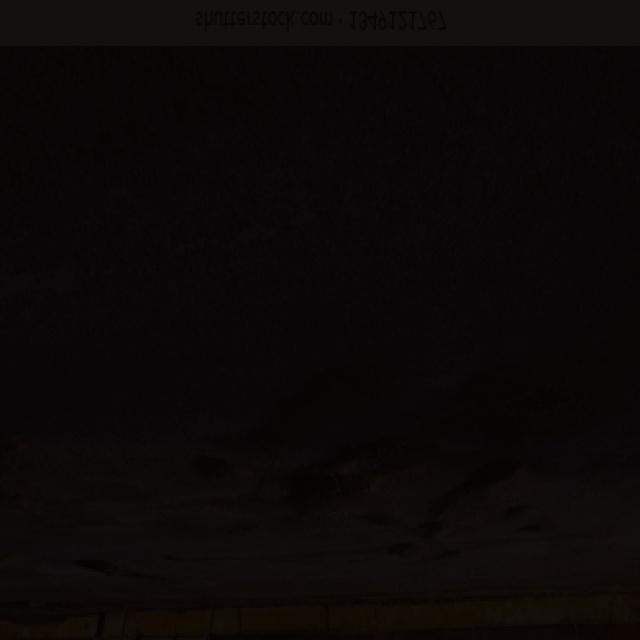Pothole: (266, 435, 557, 562)
